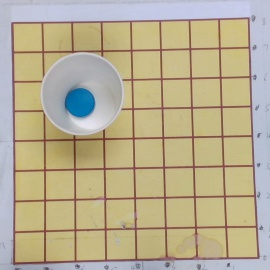cup_blue: (39, 51, 126, 138)
